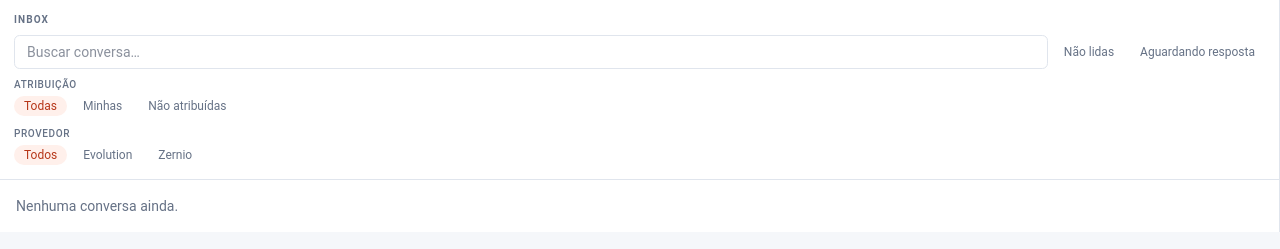
Test: ConversationsList provider filter (F4b) › shows the provider-specific empty message when the filter is active and the server page is empty
The image size is (1280, 249).
What coordinates should you click on to do the following:
click the button "Zernio"
I would click on:
 (175, 155)
Its box is [148,145,202,165].
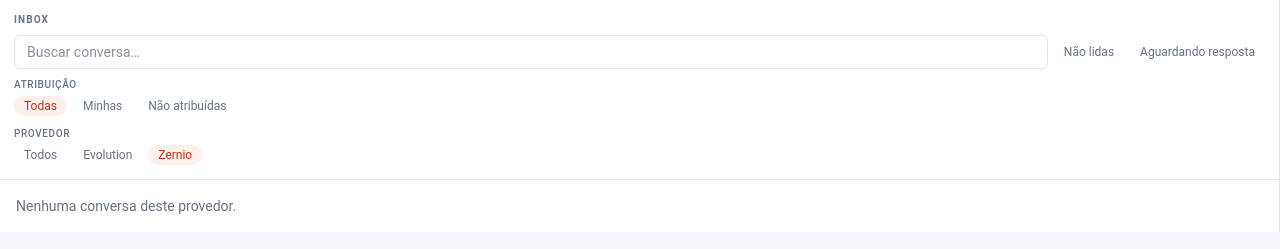
expect the text "Nenhuma conversa deste provedor." is shown: met, box [16,198,236,214]
expect the text "Nenhuma conversa ainda." is gone: met
